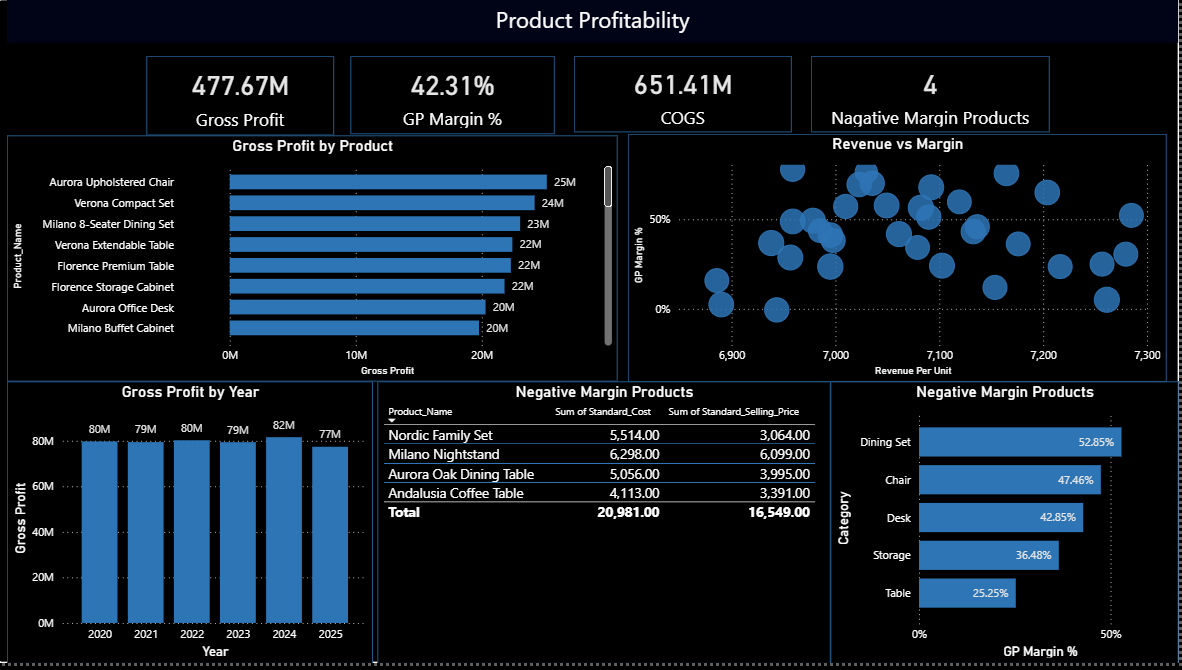

Layout of this report page (visuals, bound fields, positions):
{"tool":"powerbi","page":{"name":"Product Profitability","canvas":[1280,720],"ordinal":4},"visuals":[{"type":"textbox","box":[9.8,0,1270.3,47.2],"z":0},{"type":"card","fields":{"Values":["Fact_Sales.Gross Profit"]},"box":[161,61.8,203.3,86.2],"z":1},{"type":"card","fields":{"Values":["Fact_Sales.GP Margin %"]},"box":[400.1,60.2,203.3,86.2],"z":2},{"type":"card","fields":{"Values":["Fact_Sales.COGS"]},"box":[645.7,58.6,203.3,86.2],"z":3},{"type":"card","fields":{"Values":["Fact_Sales.Nagative Margin Products"]},"box":[870.2,58.6,258.6,86.2],"z":4},{"type":"barChart","title":"Gross Profit by Product","fields":{"Category":["Dim_Products.Product_Name"],"Y":["Fact_Sales.Gross Profit"]},"box":[9.8,148,662,266.8],"z":5},{"type":"barChart","title":"Negative Margin Products","fields":{"Category":["Dim_Products.Category"],"Y":["Fact_Sales.GP Margin %"]},"box":[902.7,414.8,377.4,305.8],"z":6},{"type":"scatterChart","title":"Revenue vs Margin","fields":{"X":["Fact_Sales.Revenue Per Unit"],"Y":["Fact_Sales.GP Margin %"],"Category":["Dim_Products.Product_Name"],"Size":["Fact_Sales.Total Units Sold"]},"box":[683.1,146.4,583.9,268.4],"z":7},{"type":"tableEx","title":"Negative Margin Products","fields":{"Values":["Dim_Products.Product_Name","Sum(Dim_Products.Standard_Cost)","Sum(Dim_Products.Standard_Selling_Price)"]},"box":[411.5,414.8,491.2,305.8],"z":8},{"type":"clusteredColumnChart","fields":{"Category":["Dim_Date.Year"],"Y":["Fact_Sales.Gross Profit"]},"box":[10.1,415.2,397,305.8],"z":9}]}

Visuals, with their boxes in screenshot pixels (x1, y1, x2, y2), scaled from the page's 1280x720 canvas onto the 1182x670 screenshot:
textbox: crop(9, 0, 1181, 44)
card - Fact_Sales.Gross Profit: crop(149, 58, 336, 138)
card - Fact_Sales.GP Margin %: crop(369, 56, 557, 136)
card - Fact_Sales.COGS: crop(596, 55, 784, 135)
card - Fact_Sales.Nagative Margin Products: crop(804, 55, 1042, 135)
"Gross Profit by Product" barChart: crop(9, 138, 620, 386)
"Negative Margin Products" barChart: crop(834, 386, 1181, 669)
"Revenue vs Margin" scatterChart: crop(631, 136, 1170, 386)
"Negative Margin Products" tableEx: crop(380, 386, 834, 669)
clusteredColumnChart - Dim_Date.Year x Fact_Sales.Gross Profit: crop(9, 386, 376, 669)
